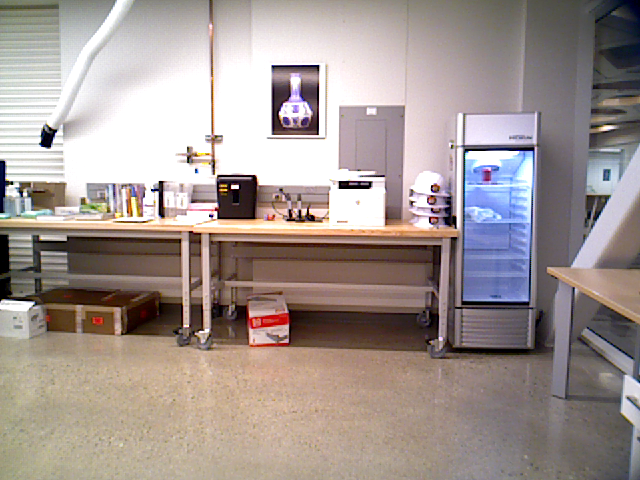painting2: (262, 60, 329, 145)
